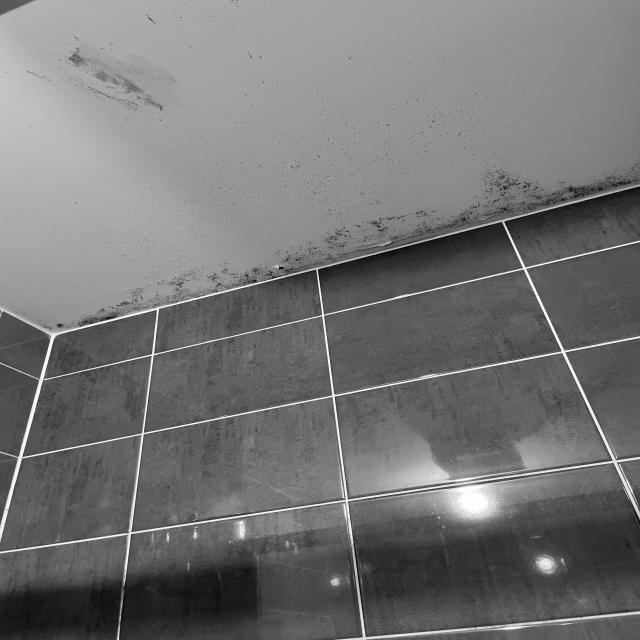stain marks: (4, 12, 303, 118), (451, 159, 640, 235), (258, 188, 453, 259), (149, 262, 295, 308), (47, 279, 146, 329)
